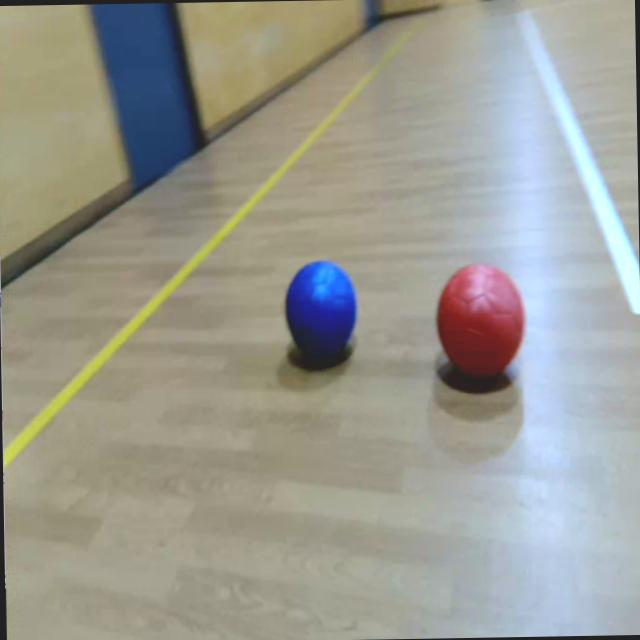blue_ball: (286, 258, 359, 356)
red_ball: (434, 262, 527, 384)
